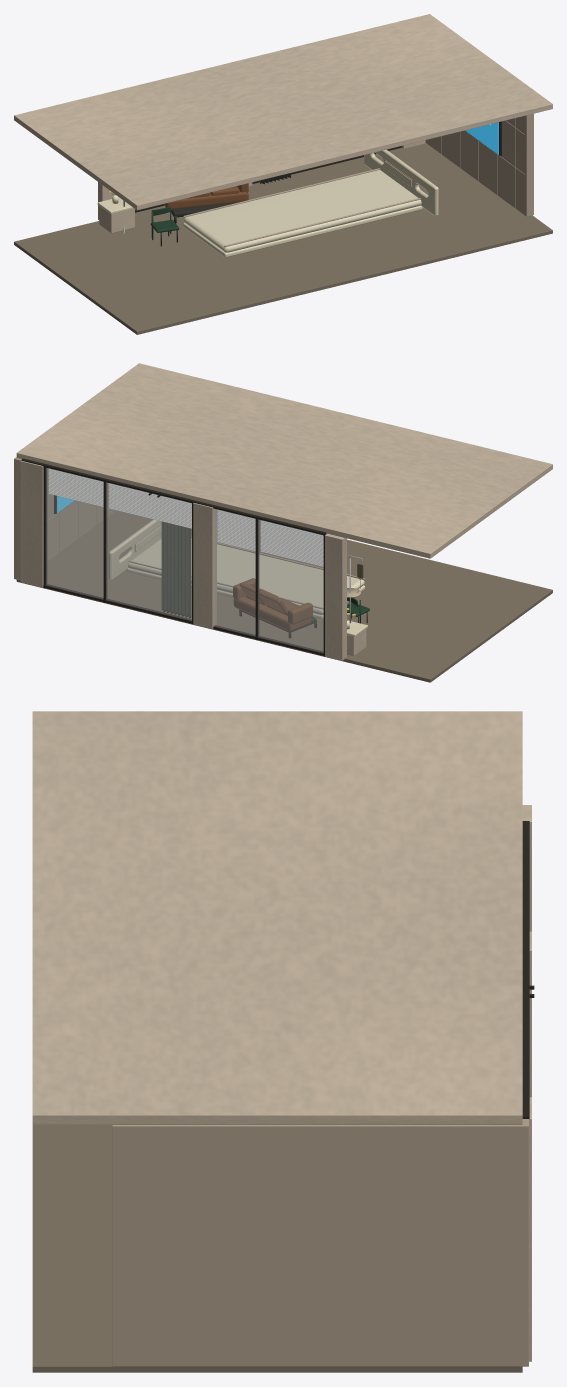
Rendered from xingtong_room_interior.glb.
3 views of the same model, one above another, from view 1: azimuth 30°, elevation 25°; view 2: azimuth 150°, elevation 25°; view 3: azimuth 270°, elevation 25° (orthographic). The views are drawn at different scales.
Parts seen in each view (by area): view 1: Shell • observed ceiling, Shell • inferred floor, Bed • mattress and sheet, TV wall • continuous paneled wall, Bed • rounded end board, Bed • lower frame, Sofa • upholstered lower carcass, Cabinet • bedside lower carcass, TV • blank blue display, Bed • slender side rim, Bed • slender side rim.001; view 2: Shell • observed ceiling, Shell • inferred floor, Window • actual clear glass pane.002, Window • actual clear glass pane, Window • actual clear glass pane.003, Bed • mattress and sheet, Window • actual clear glass pane.001, TV wall • continuous paneled wall, Window • calibrated plaster pier.002, Window • calibrated plaster pier.001, Curtain • rebuilt uniform eight-fold drape, Window • calibrated plaster pier (+9 smaller); view 3: Shell • observed ceiling, TV wall • continuous paneled wall, Shell • inferred floor, Window • calibrated perimeter rail.001, Window • calibrated plaster pier.002.
Boxes of the visible parts, x1=… form: Shell • observed ceiling: x1=14, y1=14, x2=552, y2=210; Shell • inferred floor: x1=14, y1=143, x2=552, y2=334; Bed • mattress and sheet: x1=183, y1=170, x2=421, y2=252; TV wall • continuous paneled wall: x1=425, y1=113, x2=533, y2=216; Bed • rounded end board: x1=364, y1=149, x2=438, y2=216; Bed • lower frame: x1=183, y1=205, x2=422, y2=257; Sofa • upholstered lower carcass: x1=164, y1=190, x2=248, y2=209; Cabinet • bedside lower carcass: x1=99, y1=206, x2=134, y2=233; TV • blank blue display: x1=465, y1=122, x2=498, y2=154; Bed • slender side rim: x1=224, y1=198, x2=420, y2=247; Bed • slender side rim.001: x1=183, y1=168, x2=380, y2=217; Shell • observed ceiling: x1=16, y1=363, x2=552, y2=558; Shell • inferred floor: x1=16, y1=510, x2=552, y2=682; Window • actual clear glass pane.002: x1=106, y1=482, x2=191, y2=620; Window • actual clear glass pane: x1=258, y1=519, x2=323, y2=652; Window • actual clear glass pane.003: x1=46, y1=468, x2=103, y2=598; Bed • mattress and sheet: x1=128, y1=538, x2=364, y2=614; Window • actual clear glass pane.001: x1=215, y1=509, x2=255, y2=635; TV wall • continuous paneled wall: x1=14, y1=457, x2=116, y2=580; Window • calibrated plaster pier.002: x1=20, y1=460, x2=43, y2=587; Window • calibrated plaster pier.001: x1=193, y1=503, x2=216, y2=629; Curtain • rebuilt uniform eight-fold drape: x1=161, y1=521, x2=191, y2=618; Window • calibrated plaster pier: x1=325, y1=533, x2=346, y2=660; Shell • observed ceiling: x1=32, y1=711, x2=522, y2=1124; TV wall • continuous paneled wall: x1=112, y1=1119, x2=528, y2=1366; Shell • inferred floor: x1=32, y1=1125, x2=522, y2=1372; Window • calibrated perimeter rail.001: x1=522, y1=821, x2=529, y2=1118; Window • calibrated plaster pier.002: x1=529, y1=1097, x2=531, y2=1361.
Bounding box in the file's own units: 7.82 × 2.32 × 4.09.
18 materials, 5 textured.
